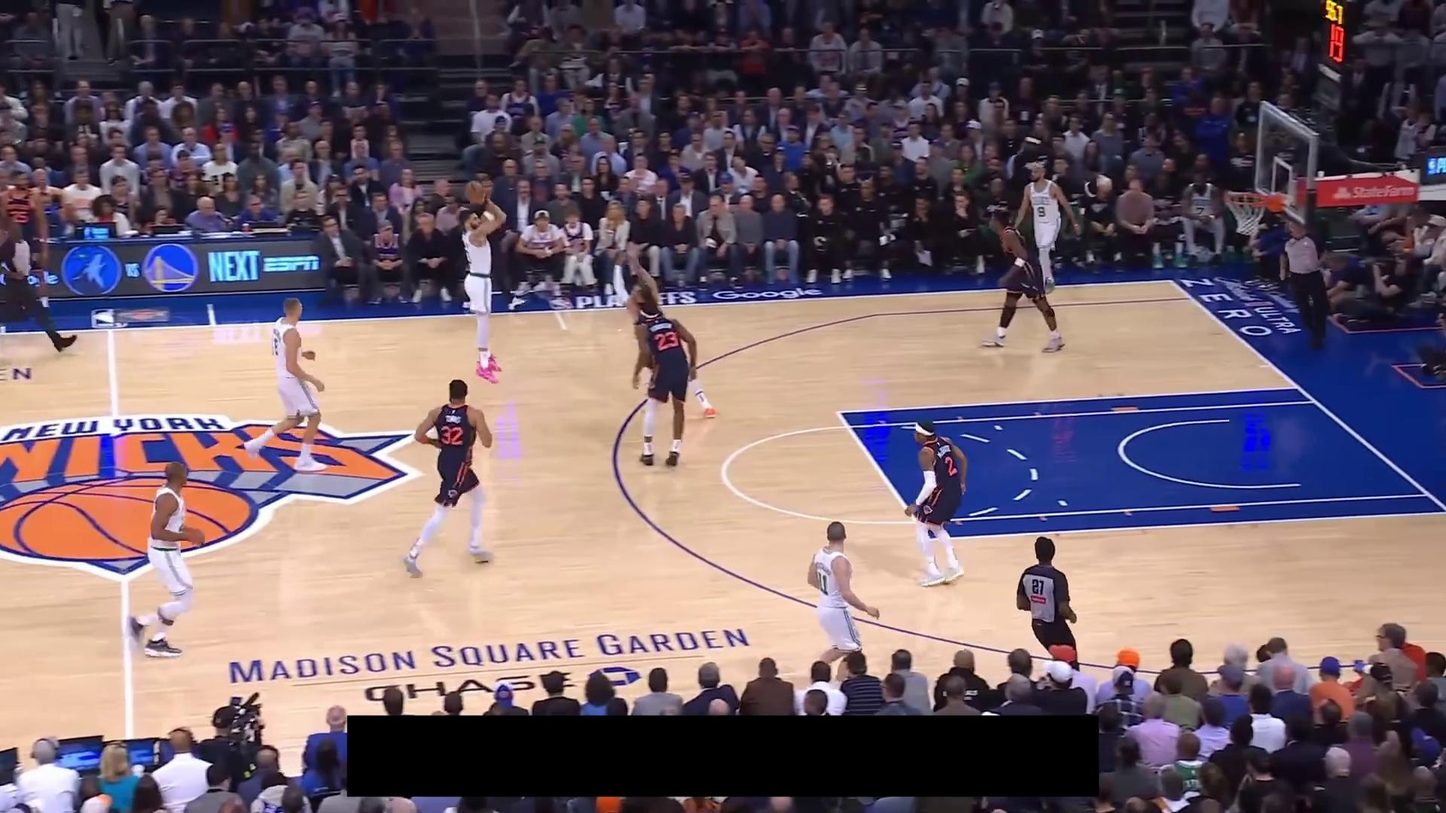ball: (466, 182, 487, 206)
number: (654, 330, 679, 352), (441, 425, 463, 446), (817, 572, 829, 595), (945, 455, 956, 477), (1036, 205, 1047, 218), (273, 337, 279, 357)
player: (401, 378, 496, 579), (613, 250, 718, 422), (124, 459, 206, 660), (243, 295, 330, 473), (800, 518, 882, 682), (899, 414, 972, 589), (981, 209, 1066, 355), (627, 304, 698, 468), (1011, 163, 1080, 297)
player-jump-shot: (459, 181, 510, 385)
referee: (0, 219, 79, 353), (1016, 535, 1079, 664), (1279, 219, 1333, 351)
rim: (1225, 191, 1268, 207)
